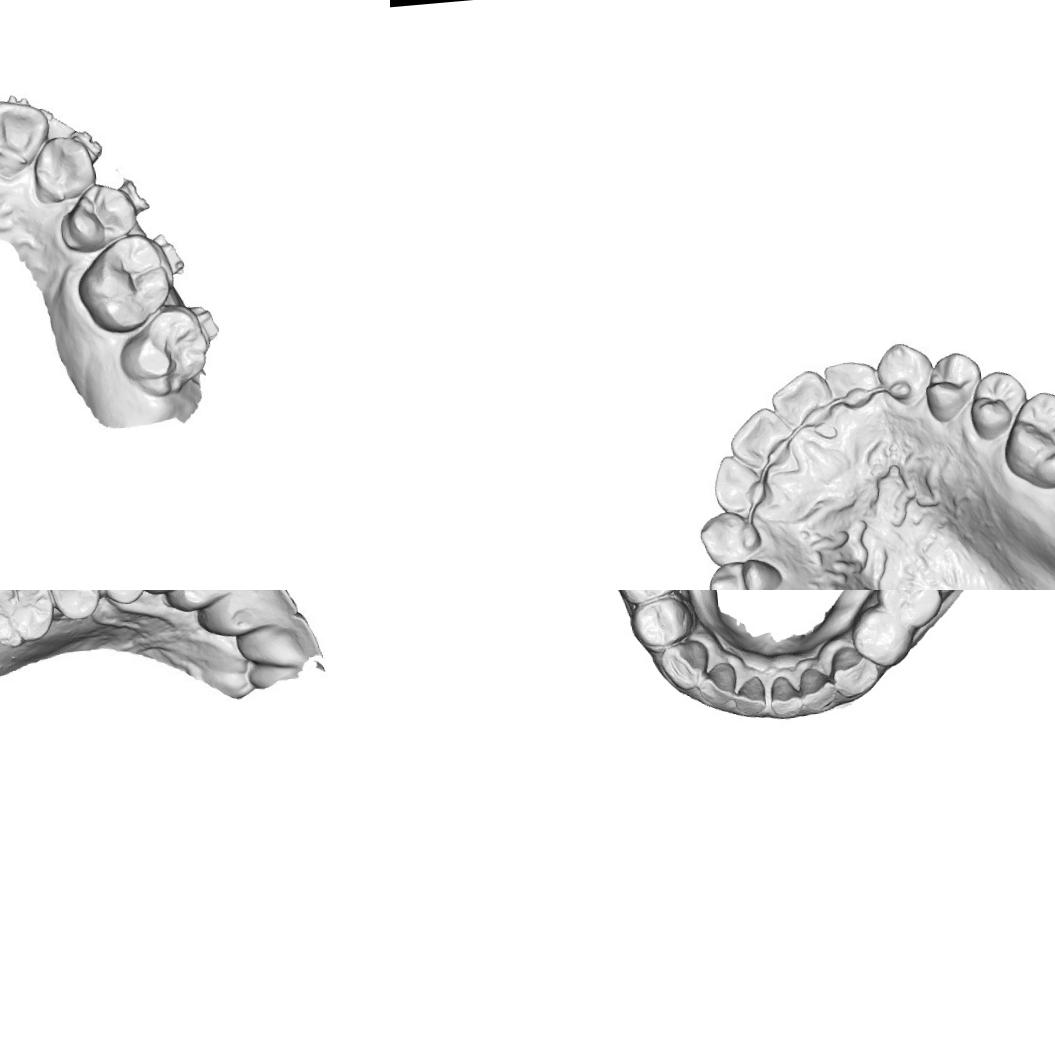canine: (27, 128, 102, 208), (697, 507, 761, 567), (876, 340, 930, 402), (657, 637, 712, 692), (828, 642, 881, 698)
incisor: (194, 590, 301, 640), (231, 616, 319, 676), (767, 368, 830, 432), (0, 97, 52, 173), (730, 408, 788, 464), (711, 452, 766, 510), (823, 355, 881, 408), (160, 590, 261, 619), (694, 660, 740, 712), (798, 664, 837, 712), (730, 674, 768, 718), (766, 672, 802, 718)
molar: (116, 302, 212, 404), (88, 234, 170, 336), (1002, 390, 1055, 479), (0, 590, 58, 647)
premolar: (56, 184, 134, 256), (848, 601, 916, 670), (626, 592, 696, 650), (922, 352, 982, 419), (968, 369, 1026, 430), (872, 590, 943, 631), (708, 558, 780, 590), (44, 590, 99, 618), (612, 590, 683, 605), (93, 590, 150, 607)
